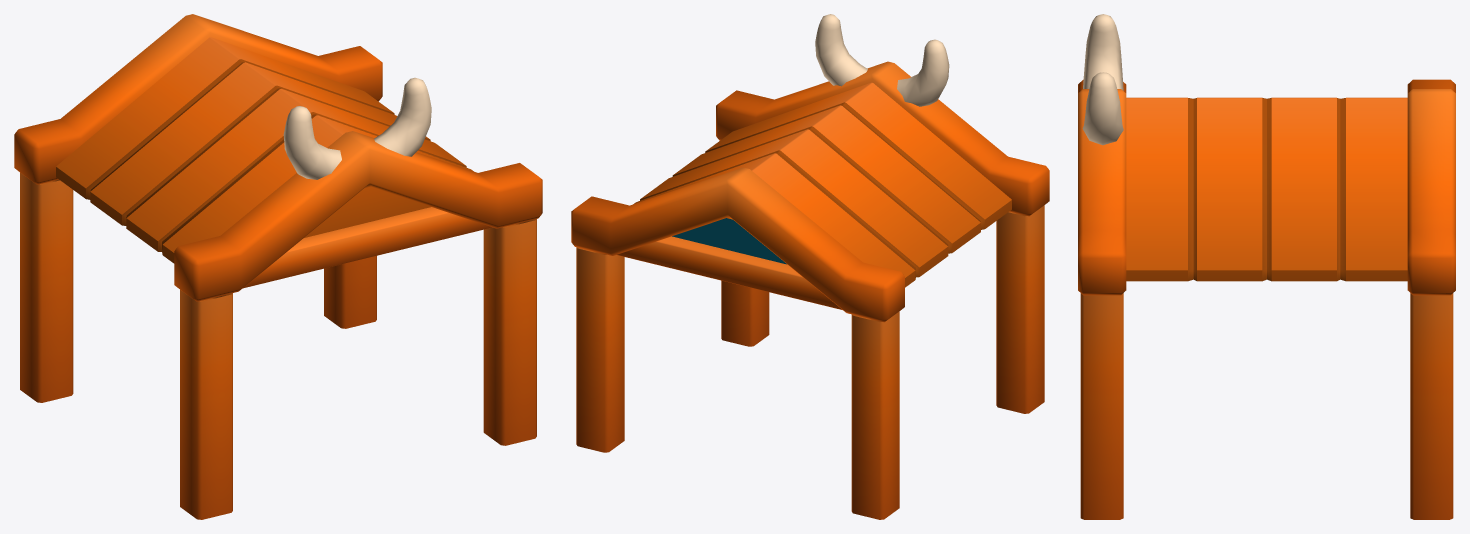
Rendered from Farm_Animal_Props_Cow_Home_01.fbx.
3 renders of one model, left to right at view 1: azimuth 30°, elevation 25°; view 2: azimuth 150°, elevation 25°; view 3: azimuth 270°, elevation 25°, orthographic. The views are drawn at different scales.
Parts seen in each view (by area): view 1: Farm_Animal_Props_Cow_Home_01; view 2: Farm_Animal_Props_Cow_Home_01; view 3: Farm_Animal_Props_Cow_Home_01.
Part boxes in pixels (x1,y1,x2,y2): Farm_Animal_Props_Cow_Home_01: [14, 14, 542, 519]; Farm_Animal_Props_Cow_Home_01: [571, 14, 1049, 519]; Farm_Animal_Props_Cow_Home_01: [1078, 14, 1455, 519].
Bounding box in the file's own units: 386 × 399 × 350.
